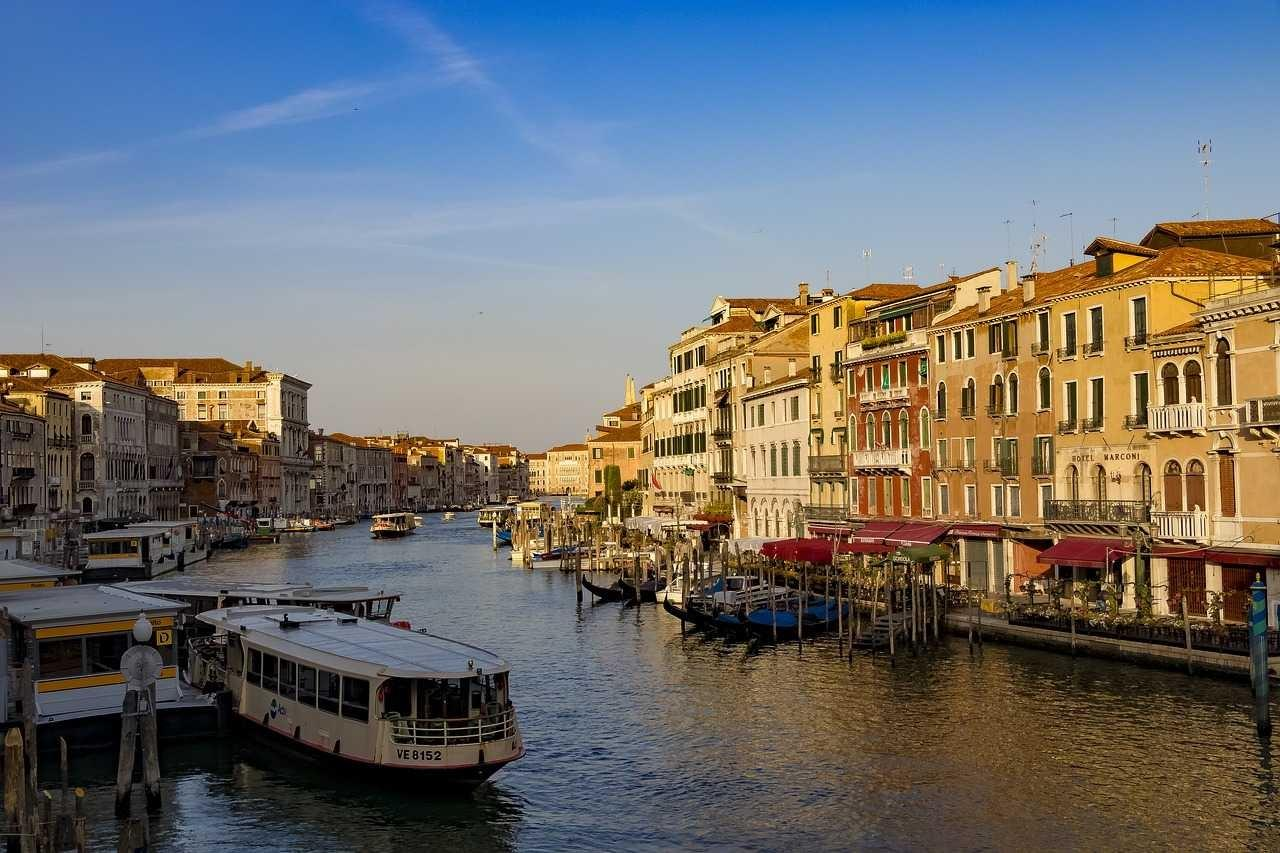kayak: (190, 599, 523, 795), (1, 582, 232, 745), (80, 521, 209, 581), (679, 575, 769, 628), (0, 532, 82, 587), (747, 592, 842, 637), (580, 572, 667, 604), (206, 513, 250, 547), (526, 544, 584, 566), (370, 513, 421, 538), (477, 505, 514, 528), (280, 518, 315, 533), (492, 526, 514, 547)
